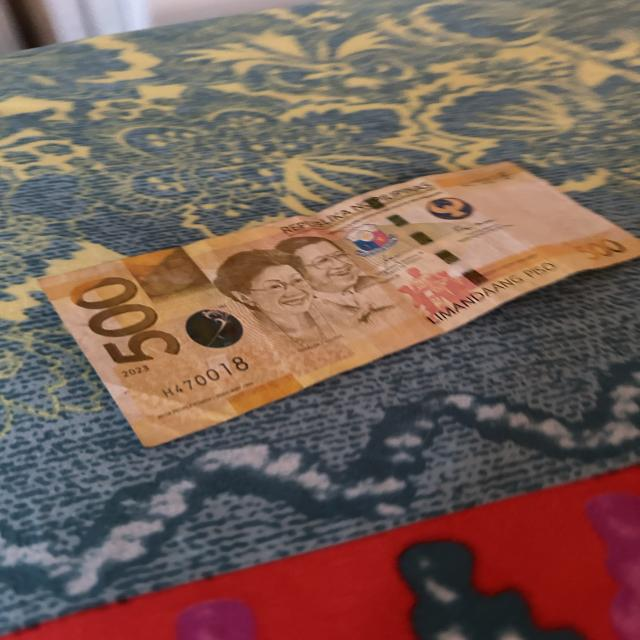concealed_value: (131, 252, 209, 298)
optically_variable_device: (186, 308, 243, 349)
watermark: (482, 176, 564, 242)
